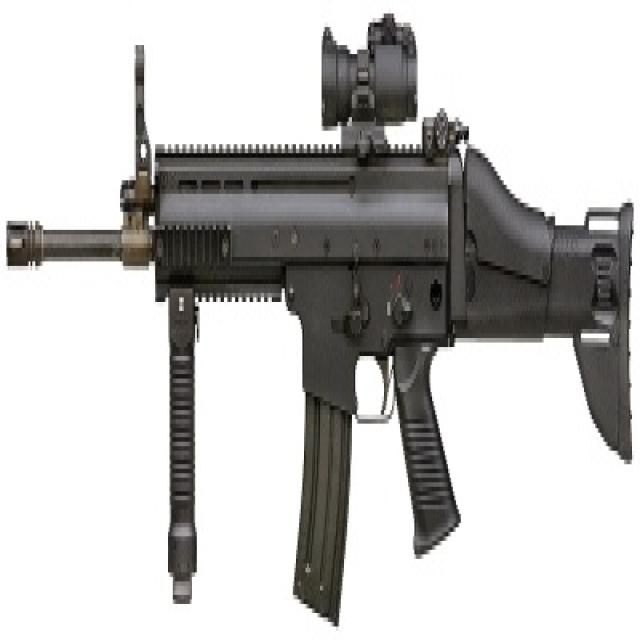rifle: (2, 9, 640, 640)
